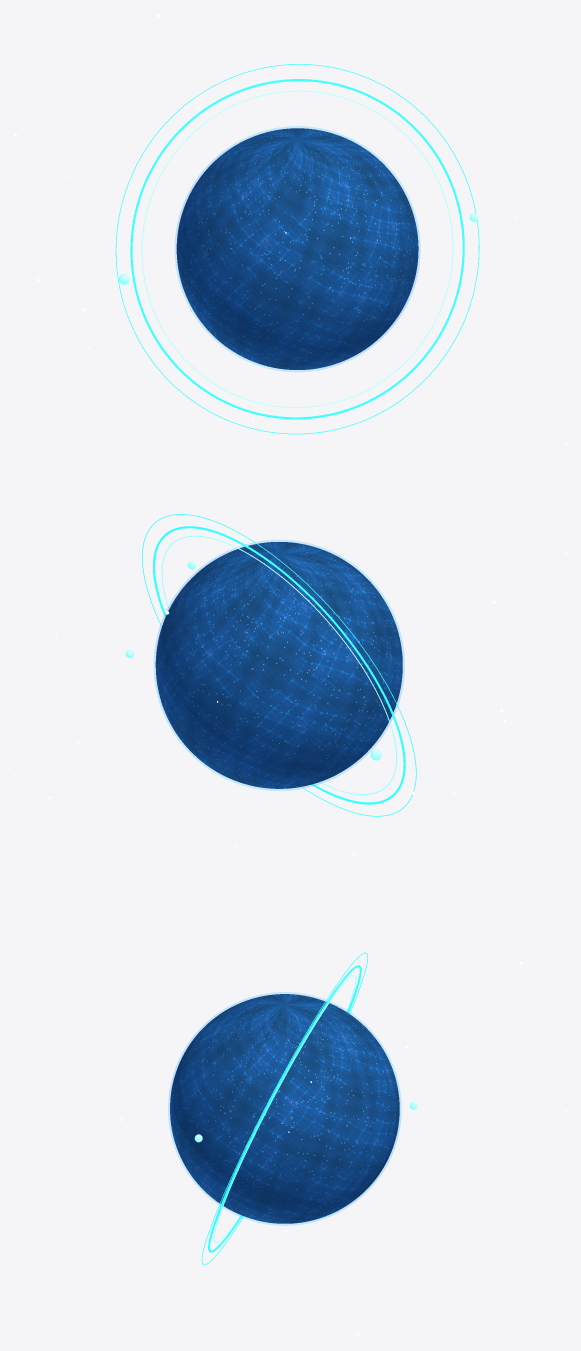
File: planet.glb
3 views of the same model, one above another, from view 1: azimuth 30°, elevation 25°; view 2: azimuth 150°, elevation 25°; view 3: azimuth 270°, elevation 25° (orthographic). The views are drawn at different scales.
Visible parts, largest first — view 1: Planet_Surface, Main_Orbital_Ring, Planet_Atmosphere, Inner_Orbital_Ring, Outer_Orbital_Ring; view 2: Planet_Surface, Planet_Atmosphere, Main_Orbital_Ring, Outer_Orbital_Ring, Inner_Orbital_Ring; view 3: Planet_Surface, Planet_Atmosphere, Main_Orbital_Ring, Outer_Orbital_Ring.
Part boxes in pixels (left/top/right/bottom): Planet_Surface: left=176, top=128, right=418, bottom=369; Main_Orbital_Ring: left=130, top=79, right=464, bottom=419; Planet_Atmosphere: left=175, top=126, right=420, bottom=371; Inner_Orbital_Ring: left=141, top=90, right=453, bottom=407; Outer_Orbital_Ring: left=115, top=64, right=479, bottom=434; Planet_Surface: left=155, top=542, right=402, bottom=788; Planet_Atmosphere: left=154, top=540, right=404, bottom=790; Main_Orbital_Ring: left=153, top=526, right=405, bottom=804; Outer_Orbital_Ring: left=142, top=514, right=416, bottom=816; Inner_Orbital_Ring: left=161, top=535, right=396, bottom=794; Planet_Surface: left=170, top=994, right=399, bottom=1223; Planet_Atmosphere: left=168, top=992, right=401, bottom=1225; Main_Orbital_Ring: left=208, top=965, right=361, bottom=1252; Outer_Orbital_Ring: left=201, top=952, right=367, bottom=1265.
Bounding box in the file's own units: 4.64 × 2.84 × 4.81.
Materials: 6 (1 with a texture image).
